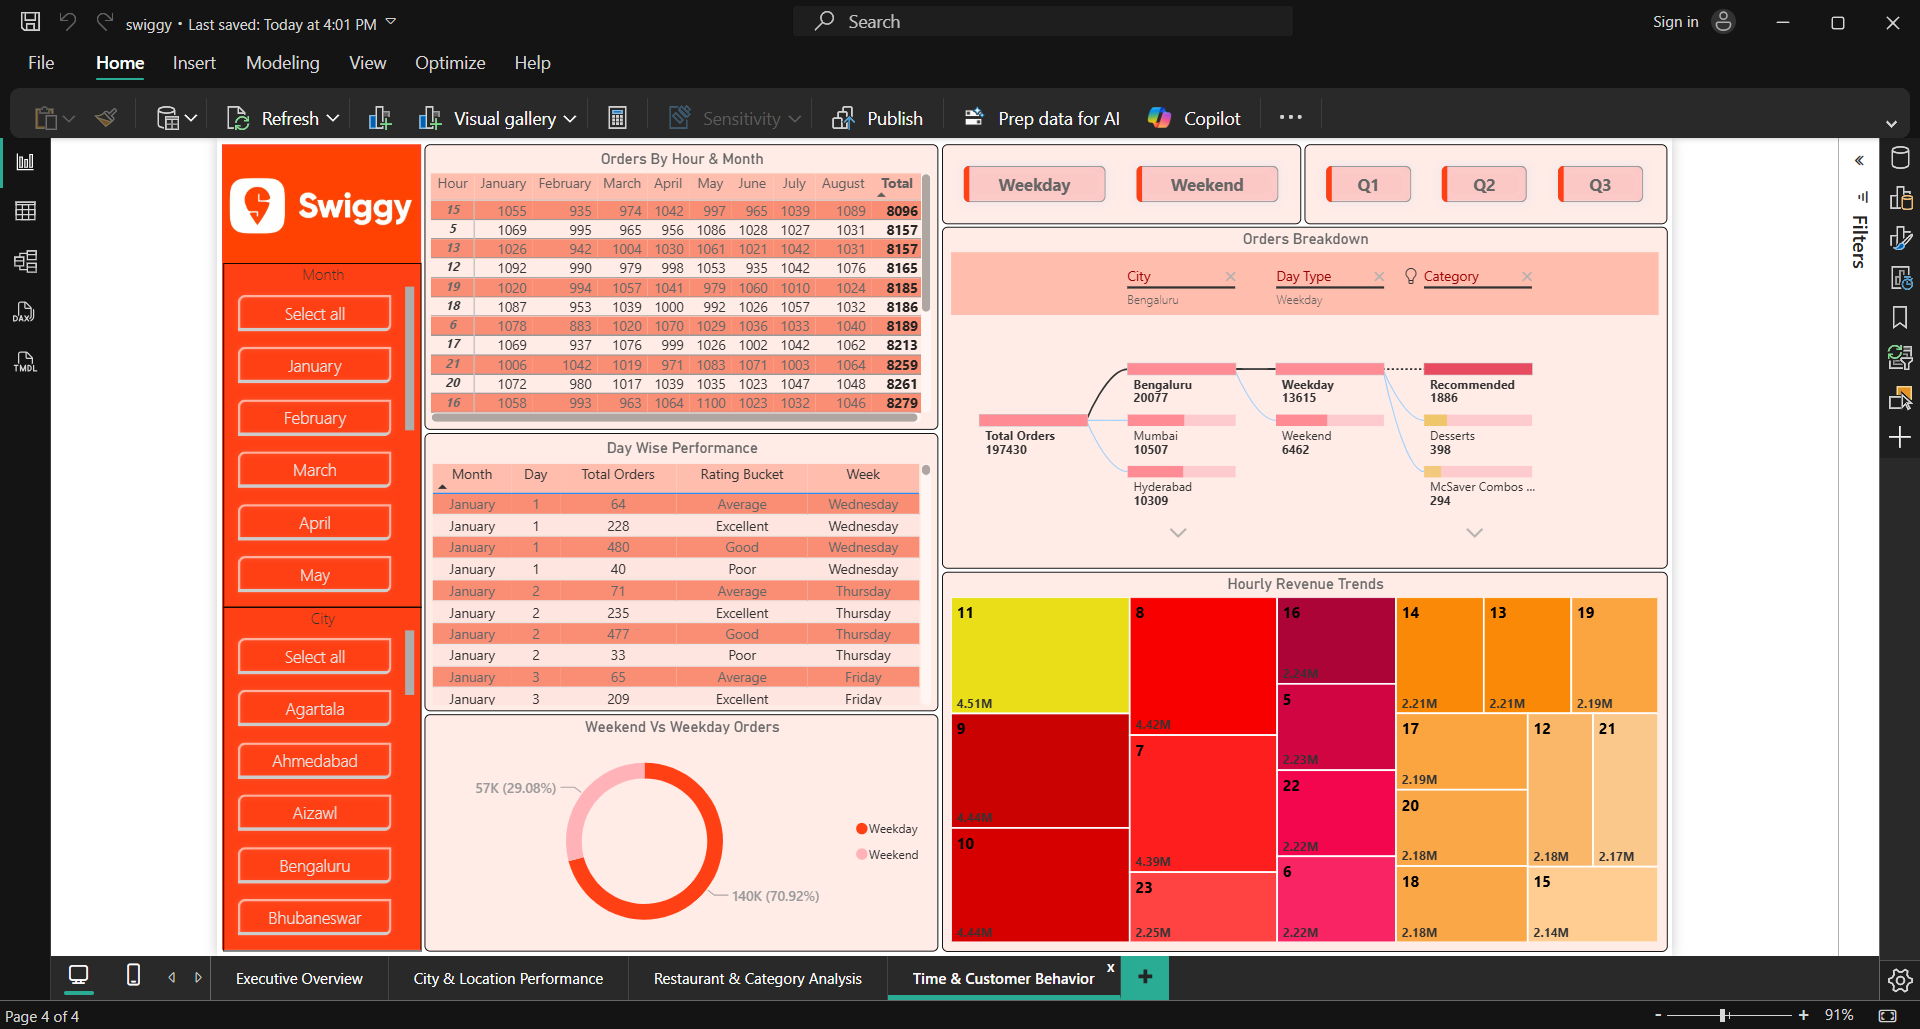

The page's visual inventory and layout, read from the dashboard file:
{"tool":"powerbi","page":{"name":"Time & Customer Behavior","canvas":[1280,720],"ordinal":3},"visuals":[{"type":"shape","box":[4.3,5.8,175.4,708.7],"z":0},{"type":"image","box":[7,8.7,169.6,101.4],"z":1000},{"type":"listSlicer","title":"City","fields":{"Values":["swiggy.city"]},"box":[5,412.3,174,303.1],"z":2000},{"type":"listSlicer","title":"Month","fields":{"Values":["swiggy.order_date.Variation.Date Hierarchy.Month"]},"box":[5,109.6,174.6,303],"z":3000},{"type":"pivotTable","title":"Orders By Hour & Month","fields":{"Values":["swiggy.Total Orders"],"Columns":["swiggy.order_date.Variation.Date Hierarchy.Month"],"Rows":["swiggy.hour"]},"box":[183,5,452,251],"z":4000},{"type":"donutChart","title":"Weekend Vs Weekday Orders ","fields":{"Category":["swiggy.Day Type"],"Y":["swiggy.Total Orders"]},"box":[183,507,452,209],"z":5000},{"type":"tableEx","title":"Day Wise Performance","fields":{"Values":["swiggy.order_date.Variation.Date Hierarchy.Month","swiggy.order_date.Variation.Date Hierarchy.Day","swiggy.Total Orders","swiggy.Rating Bucket","swiggy.day_of_week"]},"box":[183,259,452,245],"z":6000},{"type":"treemap","title":"Hourly Revenue Trends","fields":{"Group":["swiggy.hour"],"Values":["swiggy.Total Revenue"]},"box":[638,381.2,638,334],"z":7000},{"type":"decompositionTreeVisual","title":"Orders Breakdown","fields":{"Analyze":["swiggy.Total Orders"],"ExplainBy":["swiggy.city","swiggy.Day Type","swiggy.category"]},"box":[638,78,638.5,301],"z":8000},{"type":"advancedSlicerVisual","fields":{"Values":["swiggy.Day Type"]},"box":[638,5,316,70],"z":9000},{"type":"advancedSlicerVisual","fields":{"Values":["swiggy.Quarter"]},"box":[957,5,319,70],"z":10000}]}

Visuals, with their boxes on the page's 1280x720 design canvas (x1, y1, x2, y2). These are canvas units, not pixel positions in the 1920x1029 screenshot, which may show the page scaled, cropped or inside an application window:
shape: Rect(4, 6, 180, 714)
image: Rect(7, 9, 177, 110)
"City" listSlicer: Rect(5, 412, 179, 715)
"Month" listSlicer: Rect(5, 110, 180, 413)
"Orders By Hour & Month" pivotTable: Rect(183, 5, 635, 256)
"Weekend Vs Weekday Orders " donutChart: Rect(183, 507, 635, 716)
"Day Wise Performance" tableEx: Rect(183, 259, 635, 504)
"Hourly Revenue Trends" treemap: Rect(638, 381, 1276, 715)
"Orders Breakdown" decompositionTreeVisual: Rect(638, 78, 1276, 379)
advancedSlicerVisual - swiggy.Day Type: Rect(638, 5, 954, 75)
advancedSlicerVisual - swiggy.Quarter: Rect(957, 5, 1276, 75)
